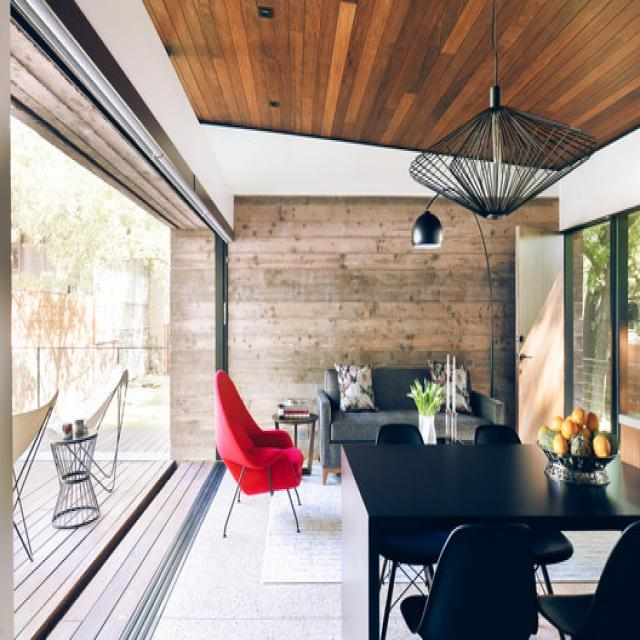couch: (214, 368, 305, 539)
